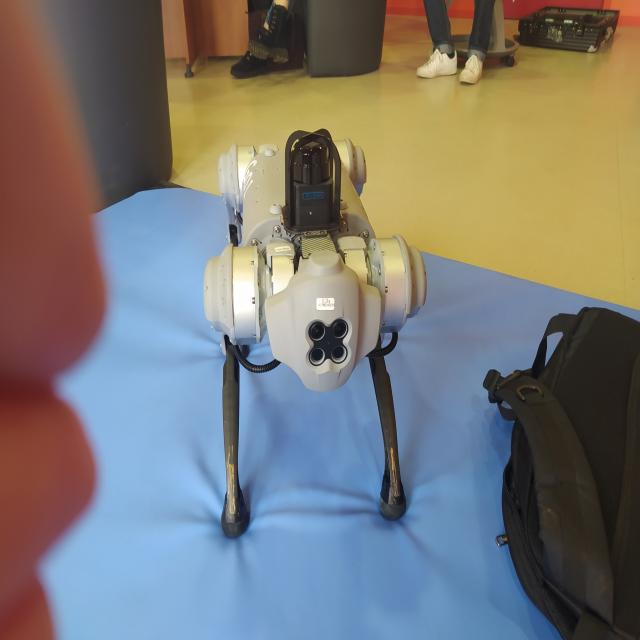unitree-go1-robot: (202, 117, 437, 547)
